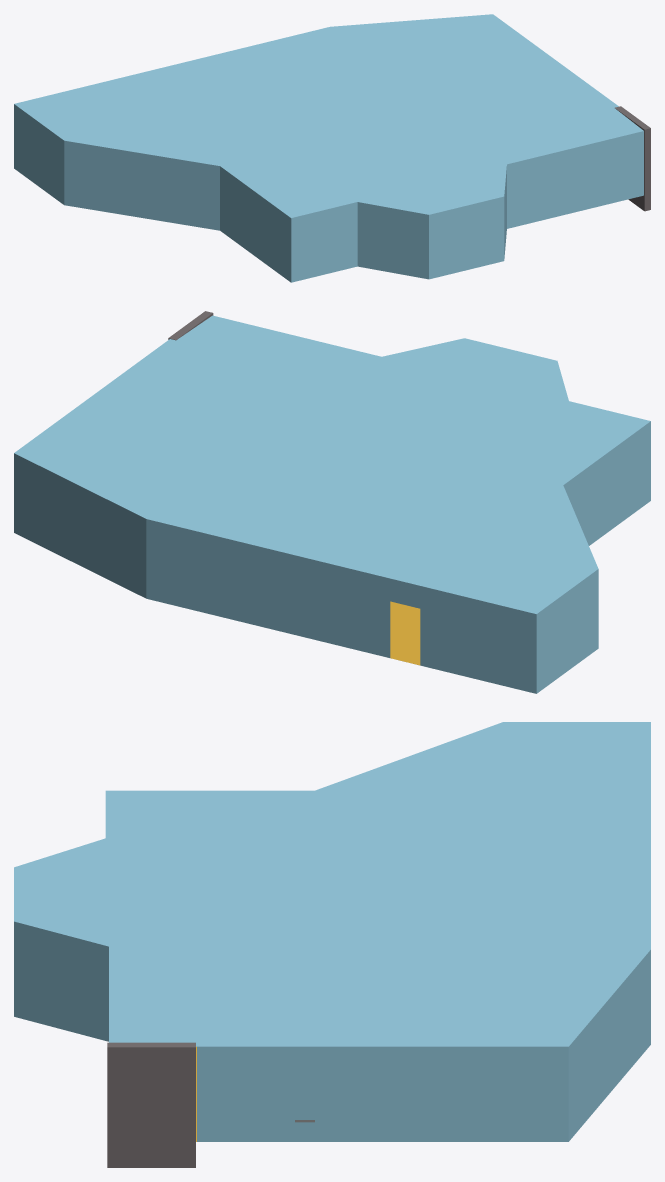
The model's file is Kitchen.glb.
3 views of the same model, one above another, from view 1: azimuth 30°, elevation 25°; view 2: azimuth 150°, elevation 25°; view 3: azimuth 270°, elevation 25° (orthographic). The views are drawn at different scales.
Visible parts, largest first — view 1: Kitchen; view 2: Kitchen; view 3: Kitchen.
Boxes of the visible parts, x1,y1,x2,y2 form: Kitchen: (14,14,650,282); Kitchen: (14,311,650,693); Kitchen: (14,722,650,1167).
Bounding box in the file's own units: 60.87 × 10.47 × 50.13.
